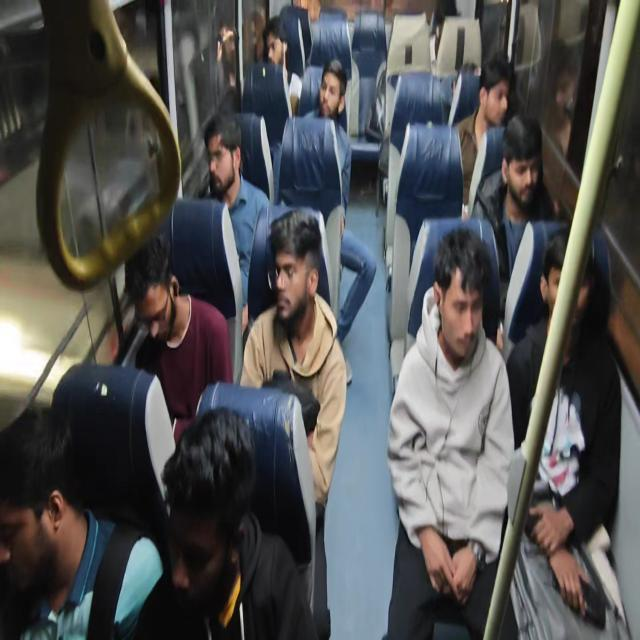person: (384, 226, 516, 638), (504, 231, 626, 638), (239, 209, 347, 637), (133, 405, 319, 639), (0, 403, 164, 639), (302, 59, 377, 384), (124, 231, 233, 447), (470, 111, 559, 318), (200, 110, 270, 330), (452, 52, 514, 217), (542, 47, 579, 159), (261, 15, 302, 116), (303, 58, 348, 132), (279, 0, 321, 78), (262, 16, 288, 66)
